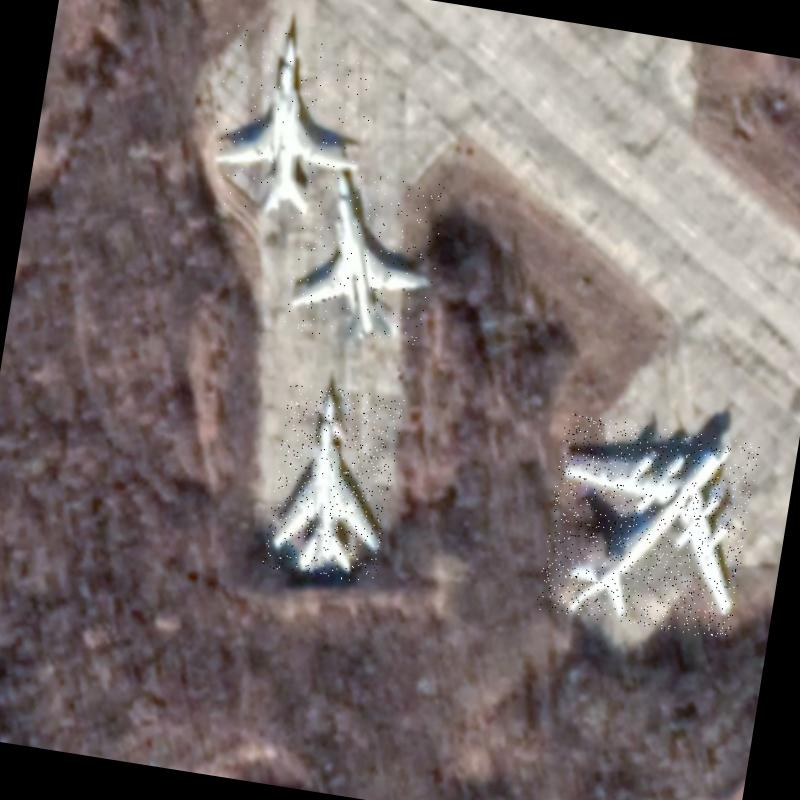A12: (199, 22, 380, 228), (282, 162, 448, 351), (262, 380, 404, 585)
A17: (535, 412, 760, 640)
